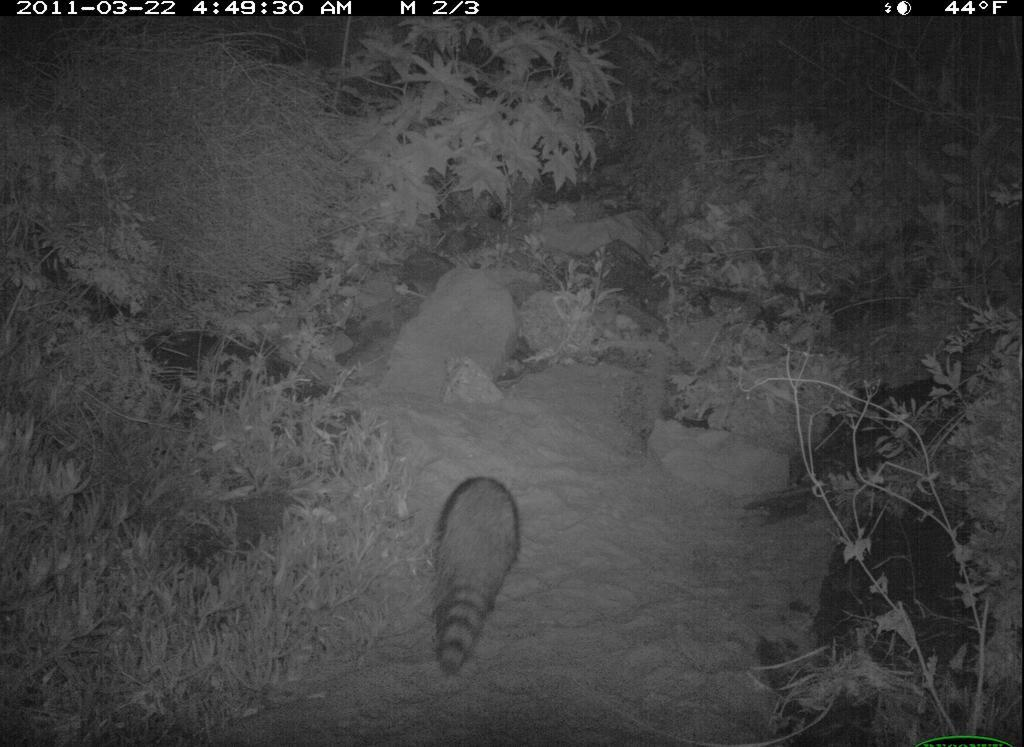raccoon: (409, 475, 543, 675)
